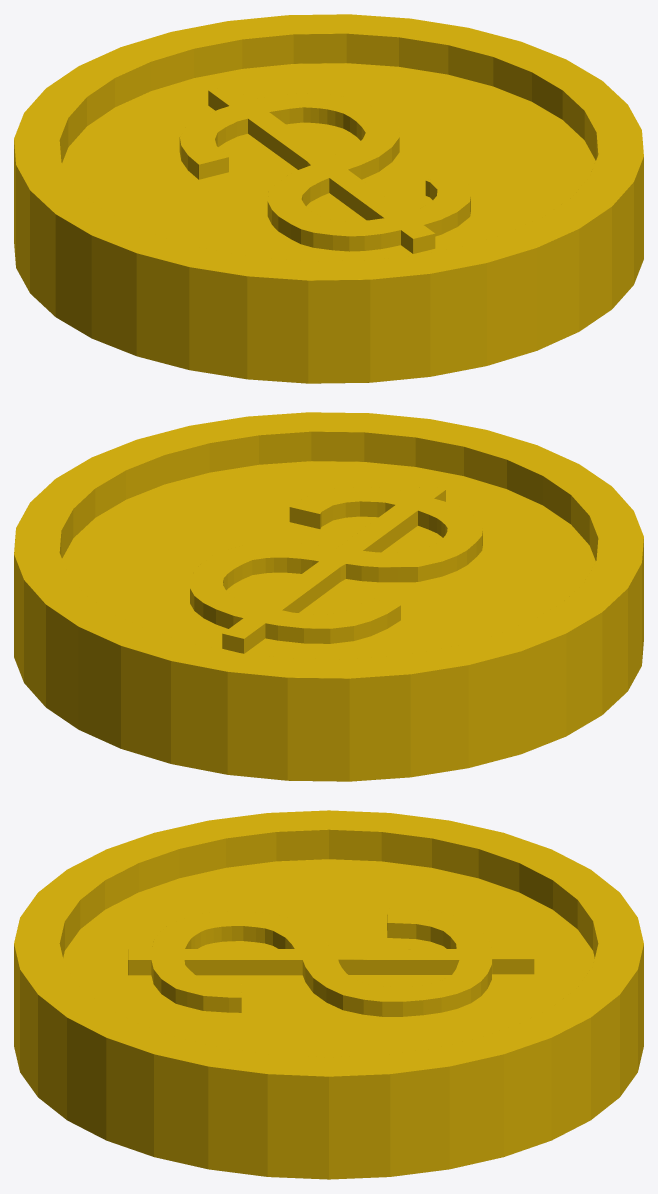
File: moneta 3.fbx
The picture shows the model from 3 angles, top to bottom: view 1: azimuth 30°, elevation 25°; view 2: azimuth 150°, elevation 25°; view 3: azimuth 270°, elevation 25°; orthographic projection.
Parts seen in each view (by area): view 1: Cylinder; view 2: Cylinder; view 3: Cylinder.
Boxes of the visible parts, x1,y1,x2,y2 form: Cylinder: [14, 14, 643, 383]; Cylinder: [14, 412, 643, 781]; Cylinder: [14, 810, 643, 1179].
Bounding box in the file's own units: 200 × 36.05 × 200.
